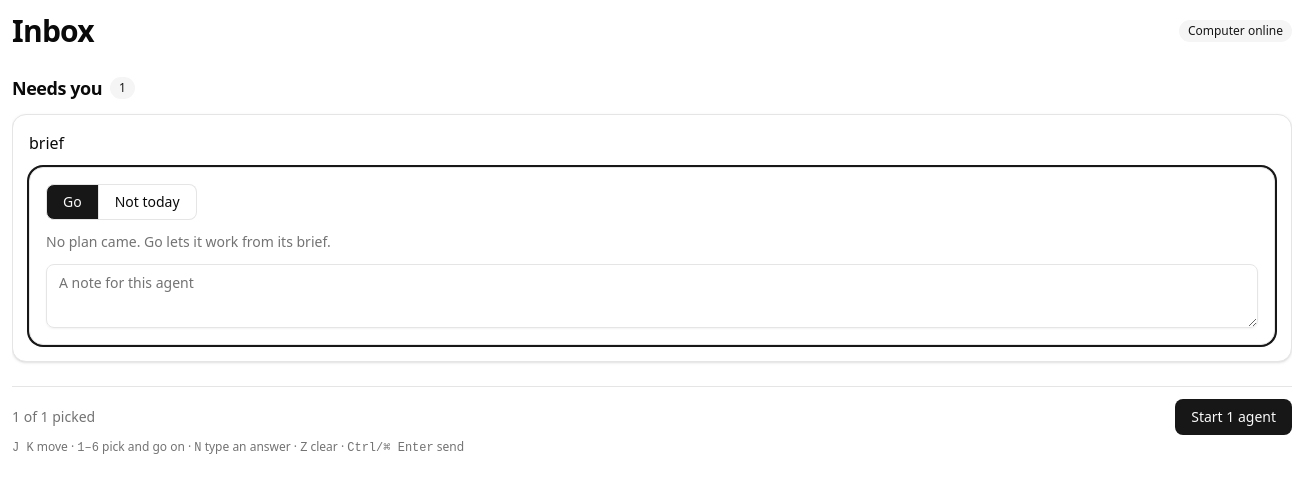
Test: says why a plan card did not start, and keeps its pick
Check: the text "Computer online" is shown, box [1179, 20, 1292, 42]
Click the button "Start 1 agent": (1234, 416) [1175, 398, 1292, 434]
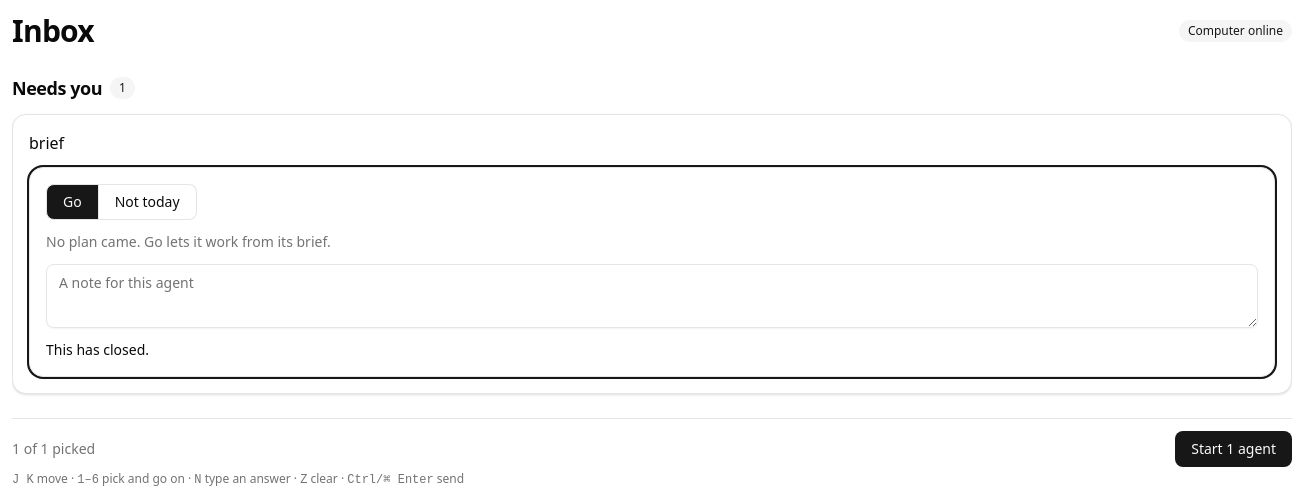
Check: the message "This has closed." is shown, box [46, 340, 149, 358]
